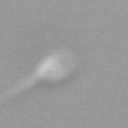normal: (1, 74, 39, 111)
